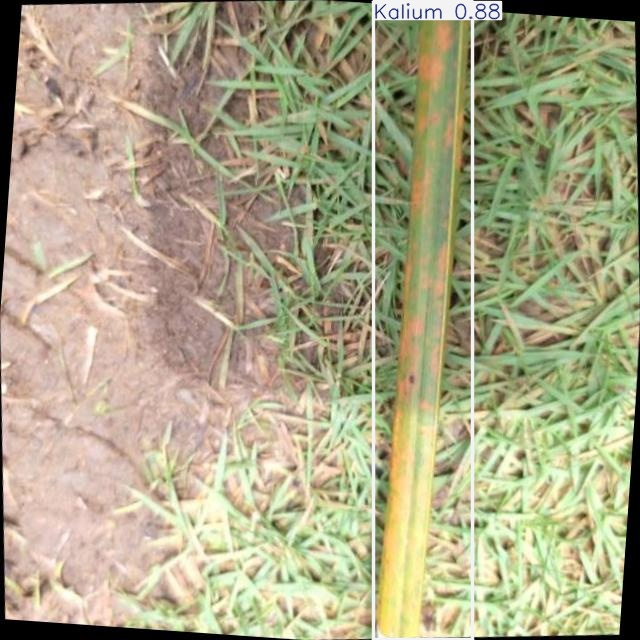Kalium: (374, 1, 473, 640)
